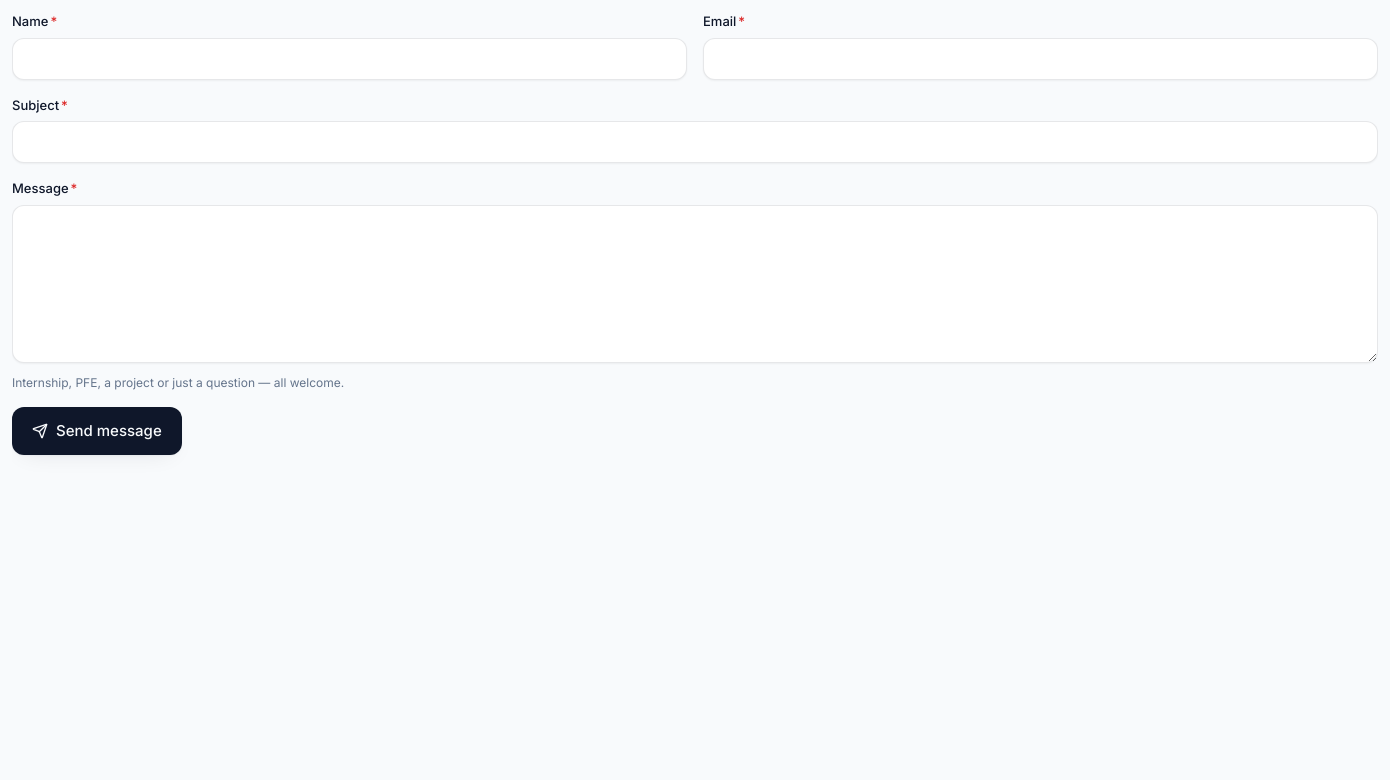
Test: ContactForm › displays field errors returned by the backend
The width and height of the screenshot is (1390, 780).
Type "Jane Doe" into the field labelled "Name*" at (350, 58), box top-left (12, 38), bottom-right (687, 80)
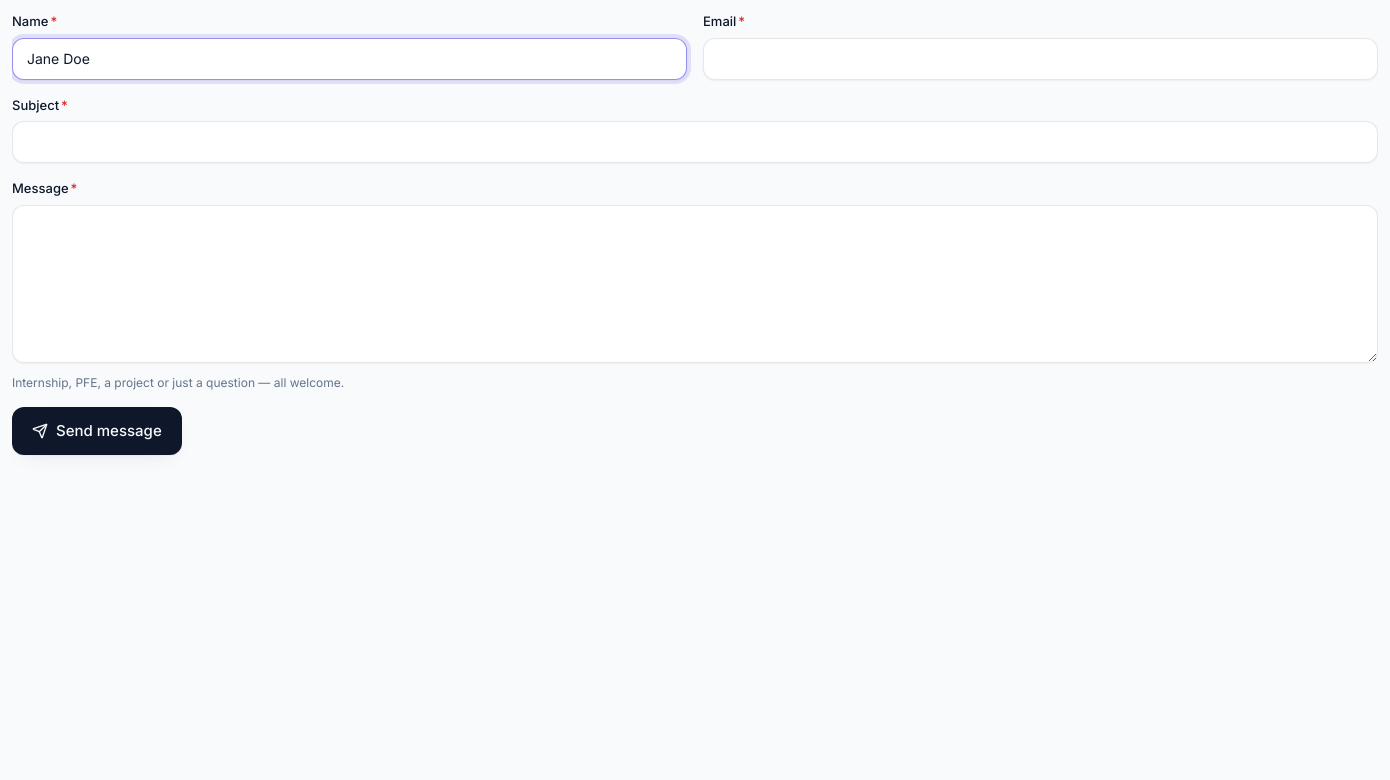
Type "jane@example.com" into the field labelled "Email*" at (1040, 58), box top-left (703, 38), bottom-right (1378, 80)
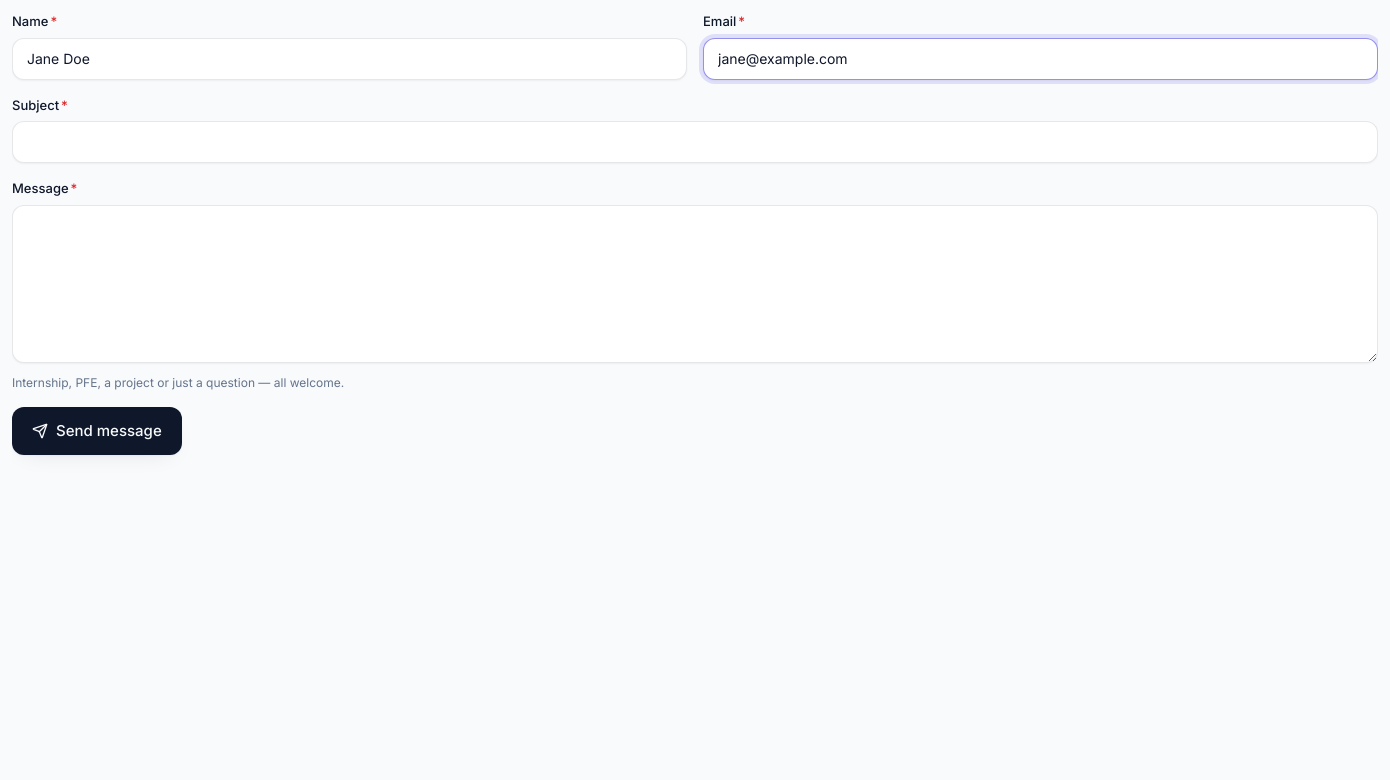
Type "Internship" into the field labelled "Subject*" at (695, 142), box top-left (12, 121), bottom-right (1378, 163)
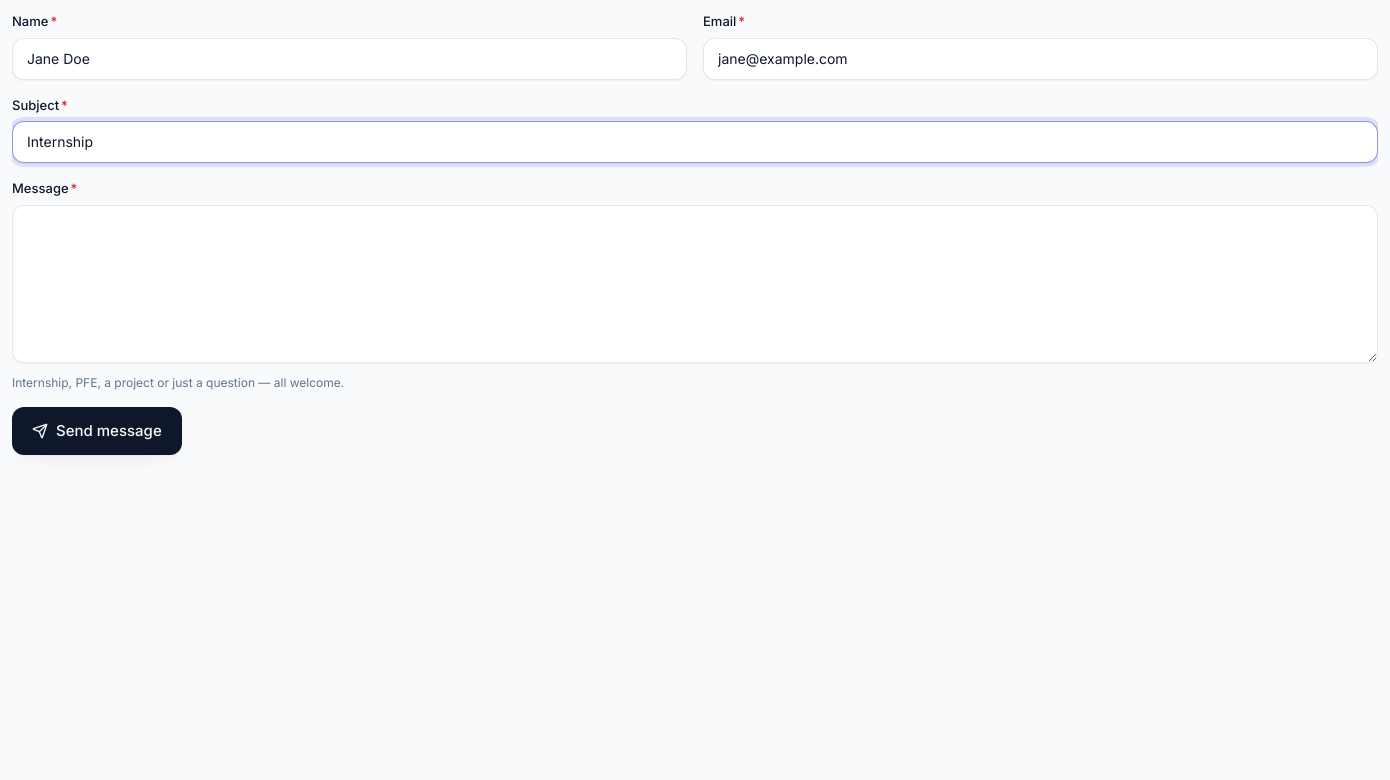
Type "Hello Rihab, I would like to talk about an internship." into the text box labelled "Message*" at (695, 284), box top-left (12, 204), bottom-right (1378, 363)
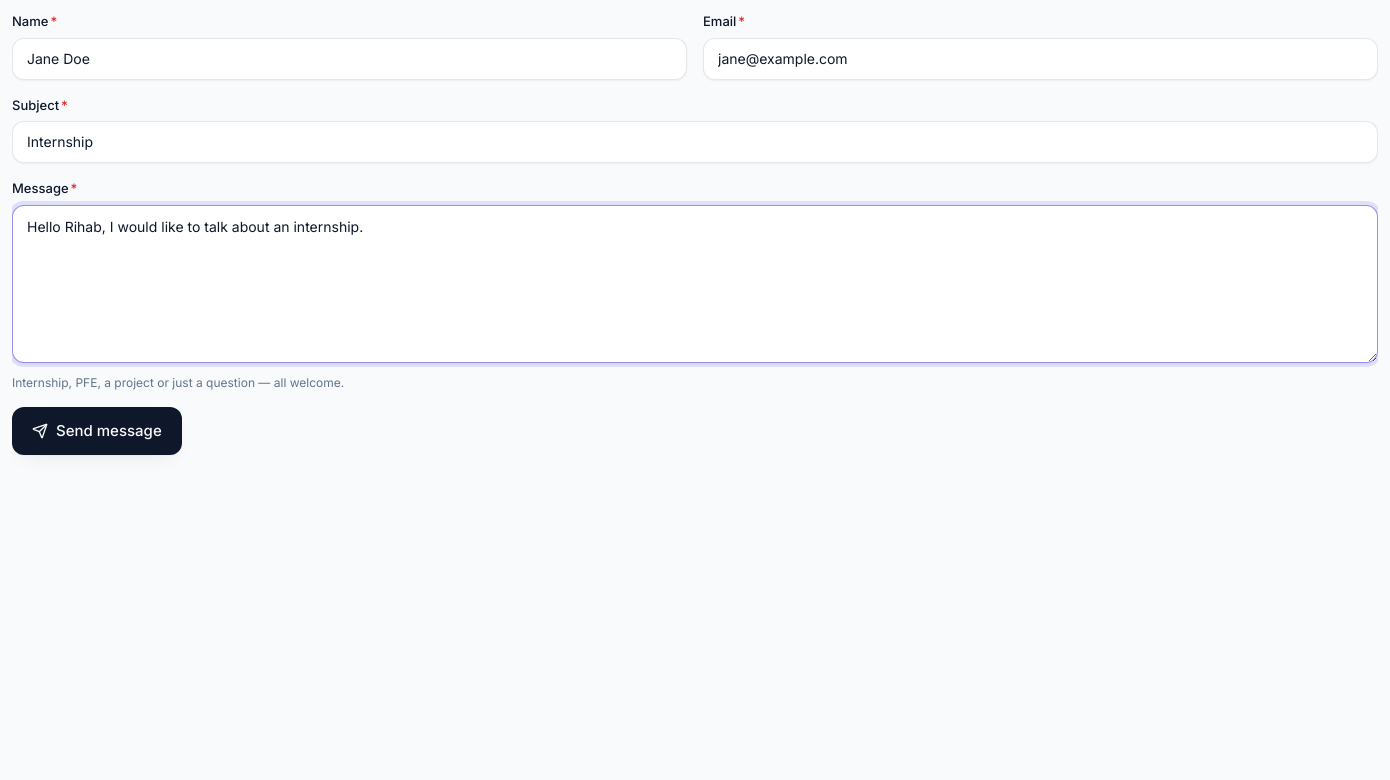
Click the button "Send message" at (97, 431), box top-left (12, 407), bottom-right (182, 455)
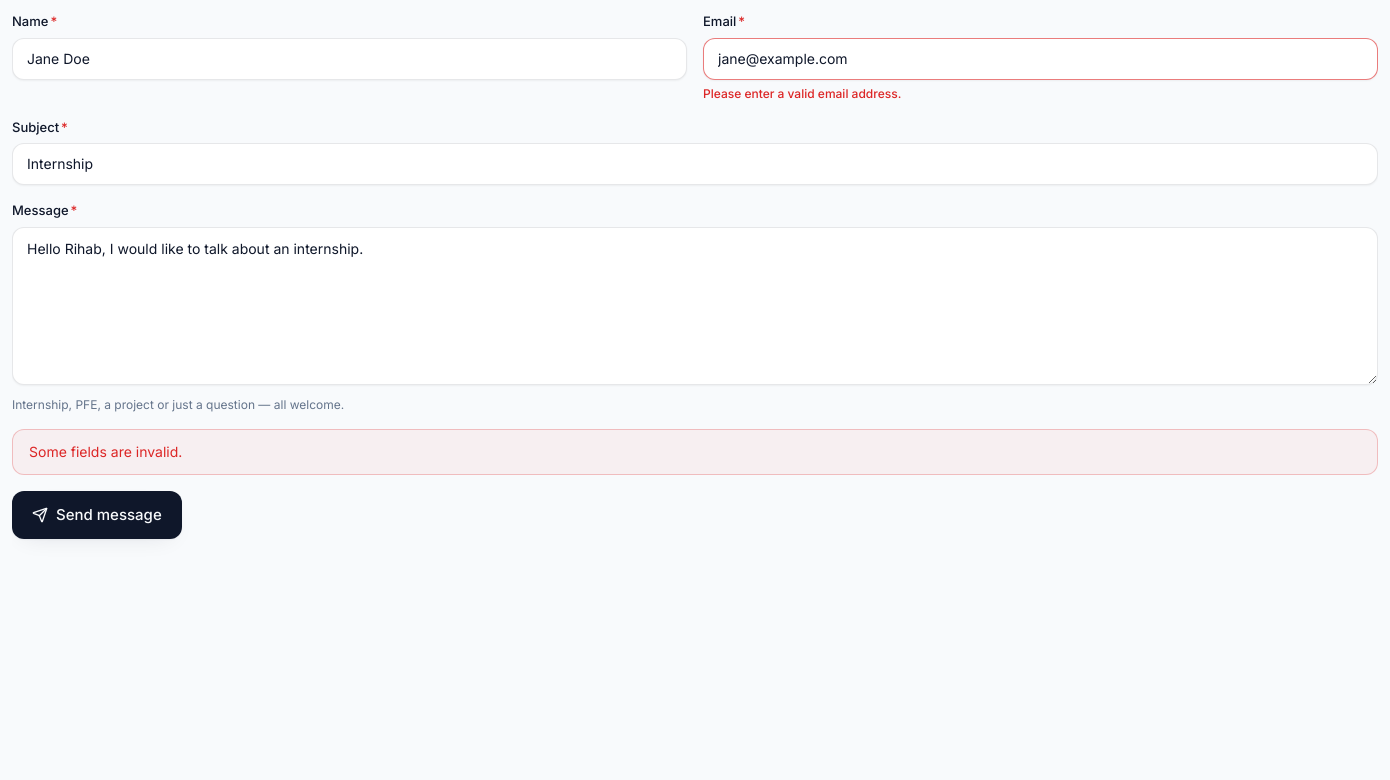
Expected: the text "Please enter a valid email address." is shown, top-left (703, 86), bottom-right (901, 100)
Expected: the text "Some fields are invalid." is shown, top-left (12, 429), bottom-right (1378, 475)
